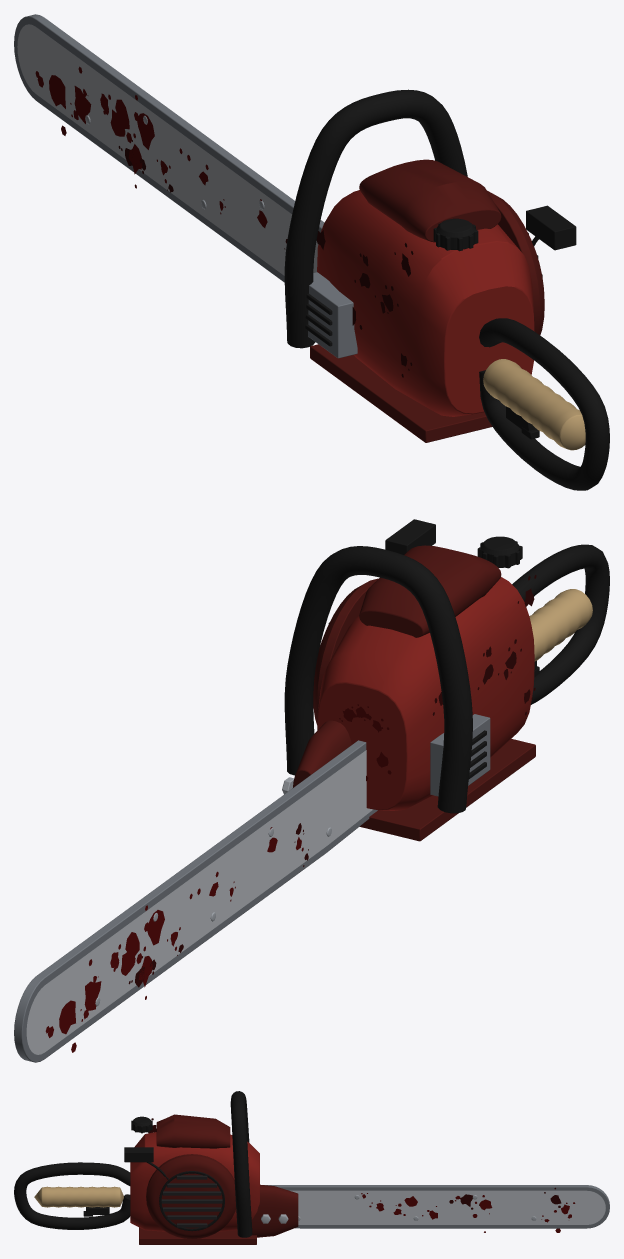
File: chainsaw.glb
The picture shows the model from 3 angles, top to bottom: view 1: azimuth 30°, elevation 25°; view 2: azimuth 150°, elevation 25°; view 3: azimuth 270°, elevation 25°; orthographic projection. The views are drawn at different scales.
Visible parts, largest first — view 1: CS_Body; view 2: CS_Body; view 3: CS_Body.
Boxes of the visible parts, x1,y1,x2,y2 form: CS_Body: (14,14,609,490); CS_Body: (14,519,609,1062); CS_Body: (14,1091,609,1244).
Bounding box in the file's own units: 0.1832 × 0.257 × 1.01.
